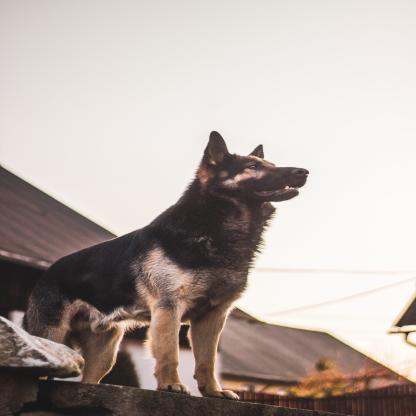dog: (1, 126, 310, 395)
